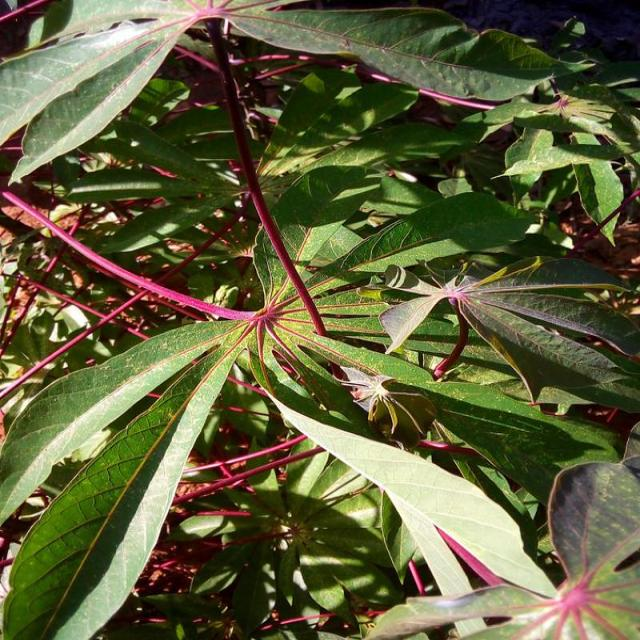cassava leaf: (0, 2, 638, 637), (1, 317, 246, 638)
